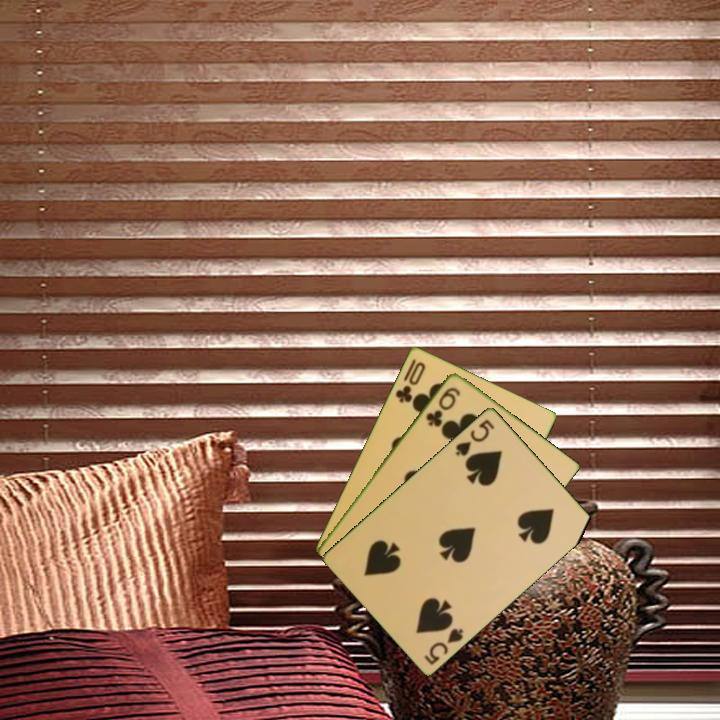10c: (392, 355, 428, 405)
5s: (452, 415, 498, 459), (420, 624, 466, 667)
6c: (422, 383, 463, 429)
